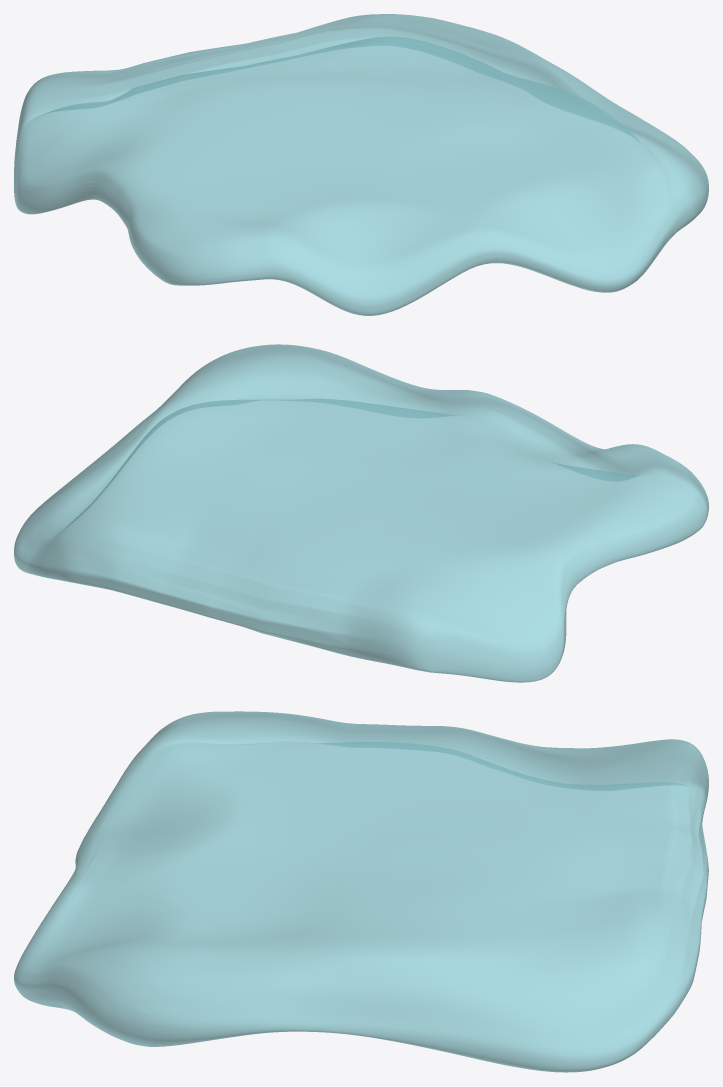
The model's file is lava3.fbx.
The picture shows the model from 3 angles, top to bottom: view 1: azimuth 30°, elevation 25°; view 2: azimuth 150°, elevation 25°; view 3: azimuth 270°, elevation 25°; orthographic projection. The views are drawn at different scales.
Parts seen in each view (by area): view 1: lava3; view 2: lava3; view 3: lava3.
Boxes of the visible parts, x1,y1,x2,y2 form: lava3: (14,14,708,315); lava3: (14,344,708,682); lava3: (14,711,708,1072).
Size of the model in its own units: 14118 by 2162 by 13969.
